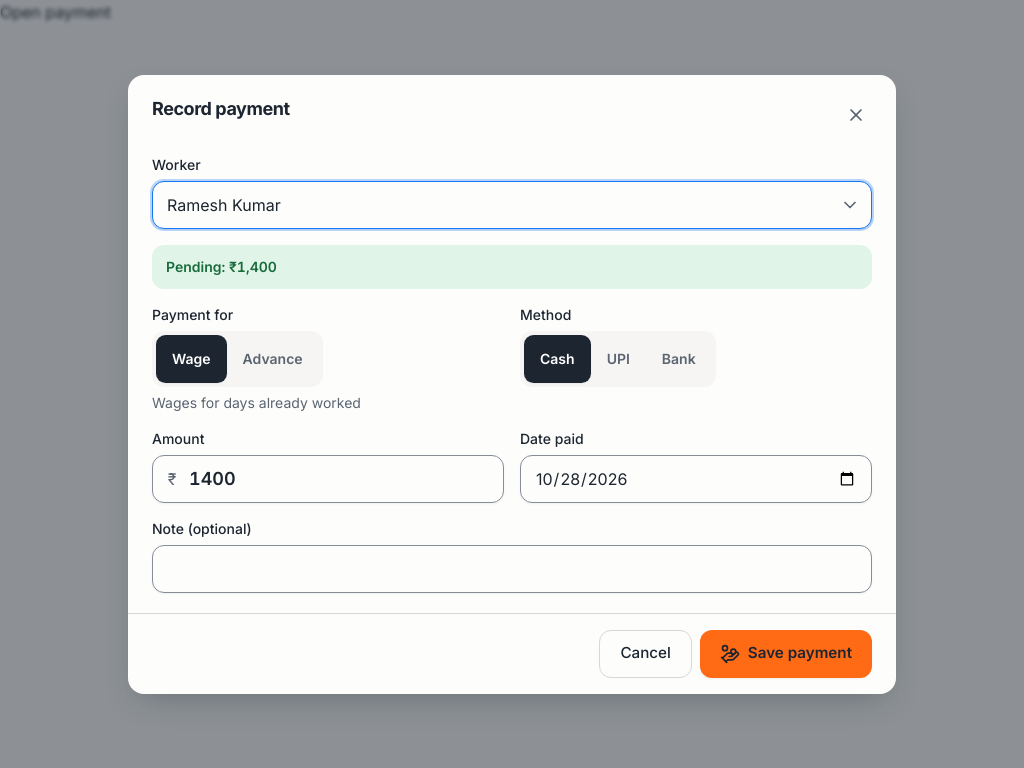
it: RecordPaymentModal › shows one message for the amount "-100"
Replace the text in the field labelled "Amount" with "-100" at (328, 478), box [152,454,504,502]
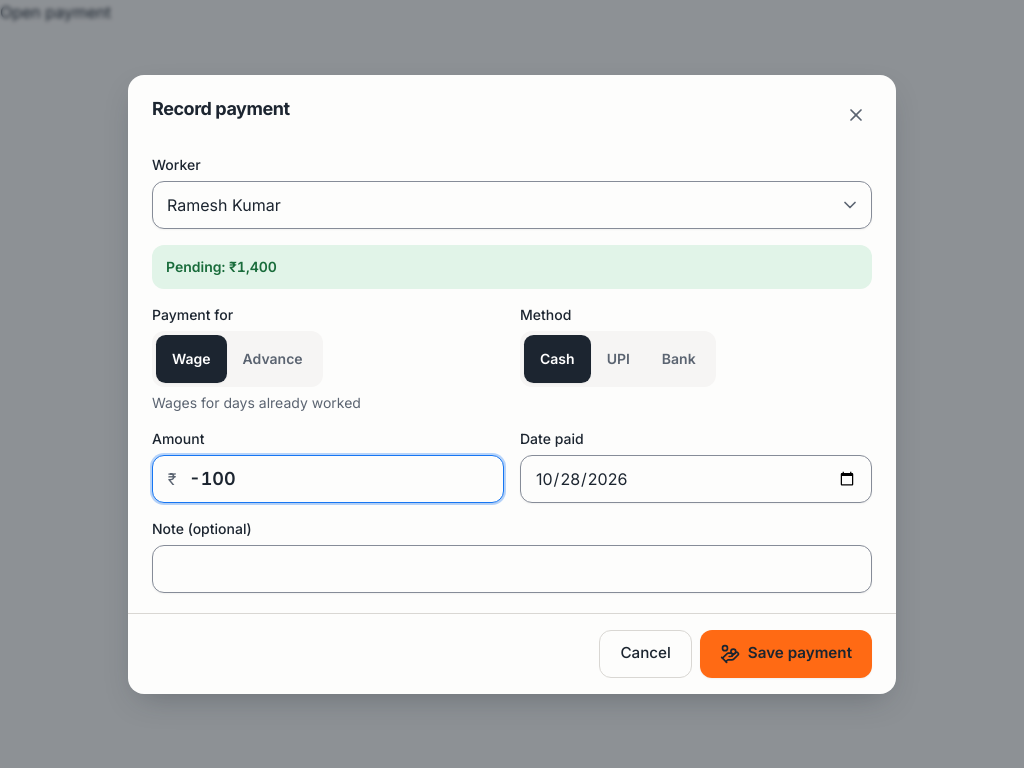
Click the button "Save payment" at (786, 654), box [700,630,872,678]
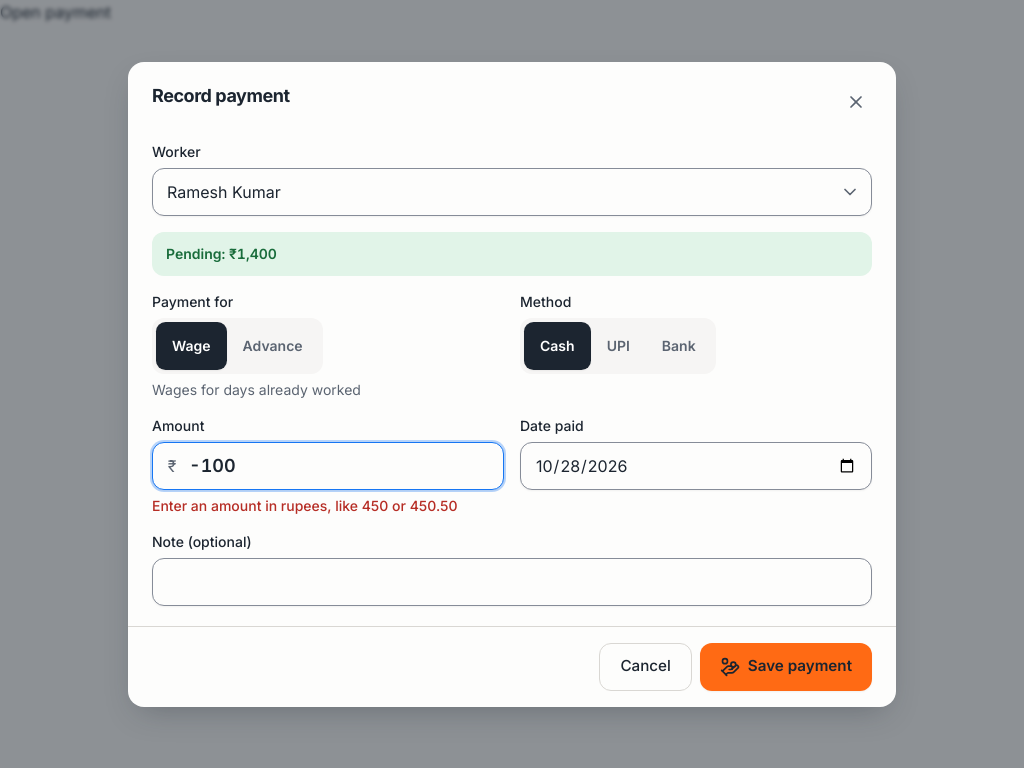
Check: the text "Enter an amount in rupees, like 450 or 450.50" is shown, box [152,496,504,516]
